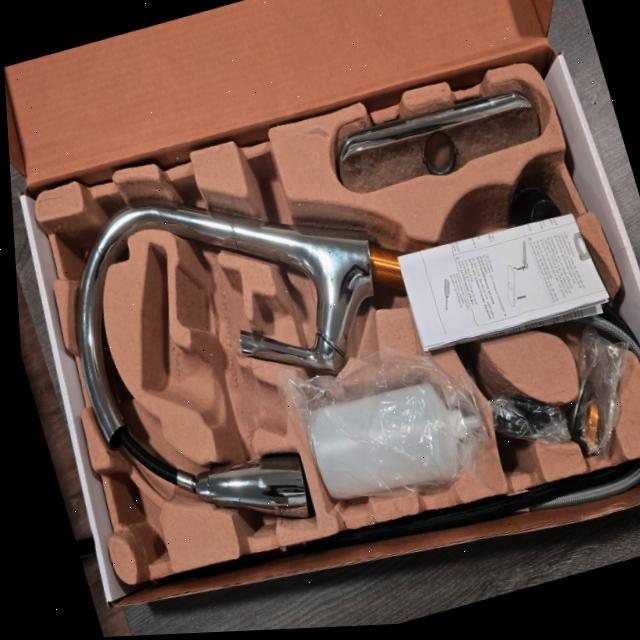1o: (76, 199, 629, 514)
2m: (144, 246, 286, 430)
3: (312, 377, 485, 495)
4: (336, 92, 538, 190)
5o: (511, 192, 563, 247)
6: (570, 329, 627, 456)
7: (489, 387, 571, 442)
8: (395, 211, 608, 350)
